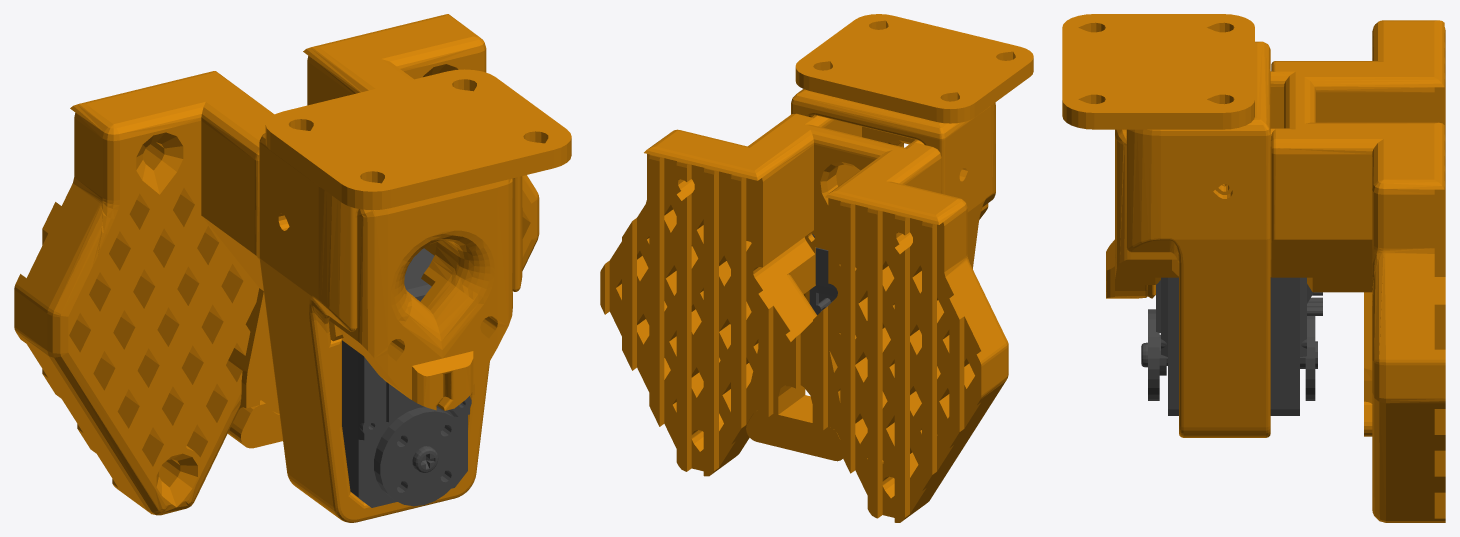
3 views of the same model, side by side, from view 1: azimuth 30°, elevation 25°; view 2: azimuth 150°, elevation 25°; view 3: azimuth 270°, elevation 25° (orthographic). The views are drawn at different scales.
Visible parts, largest first — view 1: Base_0, Base_1; view 2: Base_0, Base_1; view 3: Base_0, Base_1.
Part boxes in pixels (x1,y1,x2,y2): Base_0: (14, 14, 571, 522); Base_1: (342, 248, 471, 507); Base_0: (600, 14, 1033, 522); Base_1: (809, 234, 837, 314); Base_0: (1062, 14, 1445, 522); Base_1: (1141, 277, 1322, 415).
Bounding box in the file's own units: 0.1109 × 0.0959 × 0.0835.
